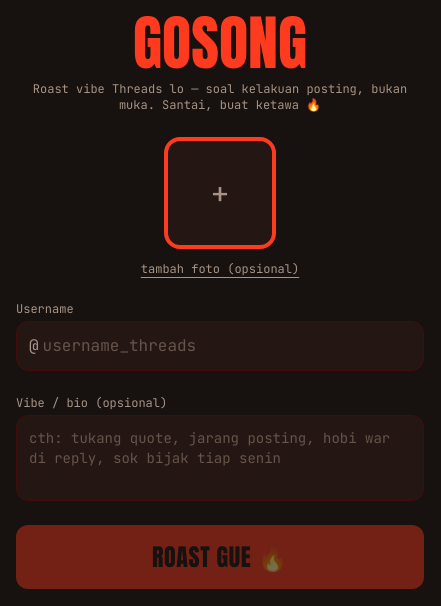
Test: InputView › disables the CTA until a username is entered
The width and height of the screenshot is (441, 606).
expect the button "ROAST GUE 🔥" is disabled: met, box [16,525,424,589]
Type "fauzan" into the field labelled "Username @" at (225, 346), box [39,322,411,370]
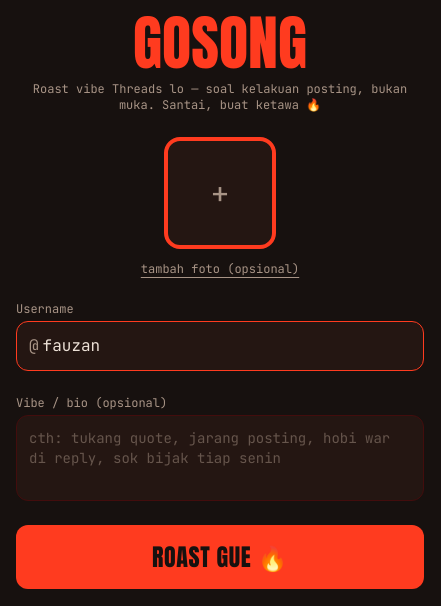
expect the button "ROAST GUE 🔥" is enabled: met, box [16,525,424,589]
